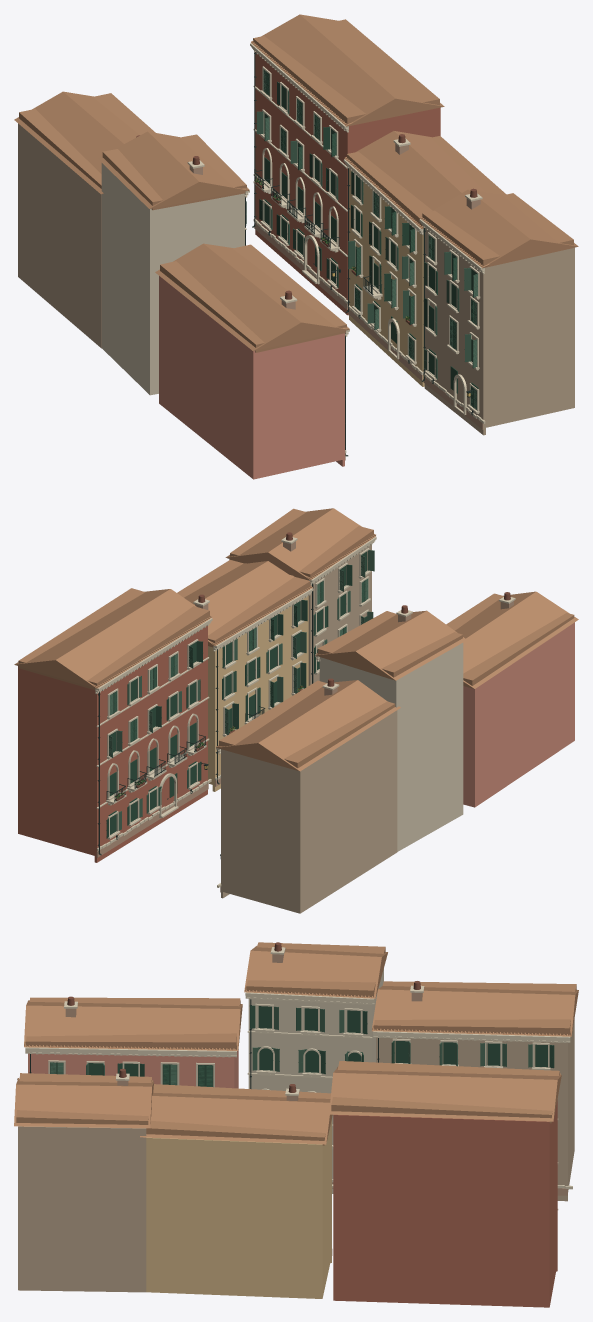
Rendered from canal-01.glb.
3 views of the same model, one above another, from view 1: azimuth 30°, elevation 25°; view 2: azimuth 150°, elevation 25°; view 3: azimuth 270°, elevation 25° (orthographic). The views are drawn at different scales.
Parts seen in each view (by area): view 1: Main elevations / kit:roof, Main elevations / kit:walls:1, Main elevations / kit:walls:5, Distant elevations / kit:roof, Distant elevations / kit:walls:5, Main elevations / kit:walls:3, Main elevations / kit:stone, Distant elevations / kit:walls:4, Main elevations / kit:green, Main elevations / kit:walls:2, Main elevations / kit:walls:4, Distant elevations / kit:greenDark (+7 smaller); view 2: Main elevations / kit:roof, Main elevations / kit:walls:5, Distant elevations / kit:roof, Main elevations / kit:walls:4, Main elevations / kit:walls:3, Main elevations / kit:walls:1, Distant elevations / kit:walls:4, Main elevations / kit:stone, Distant elevations / kit:greenDark, Main elevations / kit:walls:2, Main elevations / kit:greenDark, Main elevations / kit:green (+6 smaller); view 3: Main elevations / kit:walls:4, Main elevations / kit:roof, Main elevations / kit:walls:2, Main elevations / kit:walls:5, Distant elevations / kit:roof, Main elevations / kit:stone, Main elevations / kit:walls:3, Distant elevations / kit:greenDark, Distant elevations / kit:walls:3, Distant elevations / kit:walls:5, Main elevations / kit:walls:1, Main elevations / kit:green (+3 smaller).
Boxes of the visible parts, <box> form: Main elevations / kit:roof: <box>14,14,578,351</box>; Main elevations / kit:walls:1: <box>159,276,344,479</box>; Main elevations / kit:walls:5: <box>18,123,574,435</box>; Distant elevations / kit:roof: <box>19,19,573,352</box>; Distant elevations / kit:walls:5: <box>425,228,565,427</box>; Main elevations / kit:walls:3: <box>101,163,241,395</box>; Main elevations / kit:stone: <box>187,43,485,453</box>; Distant elevations / kit:walls:4: <box>255,52,350,299</box>; Main elevations / kit:green: <box>256,69,477,409</box>; Main elevations / kit:walls:2: <box>349,168,424,386</box>; Main elevations / kit:walls:4: <box>255,74,440,315</box>; Distant elevations / kit:greenDark: <box>264,85,478,393</box>; Main elevations / kit:roof: <box>14,508,578,771</box>; Main elevations / kit:walls:5: <box>221,547,397,913</box>; Distant elevations / kit:roof: <box>18,508,574,768</box>; Main elevations / kit:walls:4: <box>18,661,207,862</box>; Main elevations / kit:walls:3: <box>319,643,463,851</box>; Main elevations / kit:walls:1: <box>466,622,574,807</box>; Distant elevations / kit:walls:4: <box>86,626,207,856</box>; Main elevations / kit:stone: <box>95,537,515,887</box>; Distant elevations / kit:greenDark: <box>108,551,367,834</box>; Main elevations / kit:walls:2: <box>208,595,308,791</box>; Main elevations / kit:greenDark: <box>106,564,364,838</box>; Main elevations / kit:green: <box>109,550,374,830</box>; Main elevations / kit:walls:4: <box>333,1105,557,1307</box>; Main elevations / kit:roof: <box>14,946,578,1144</box>; Main elevations / kit:walls:2: <box>146,1119,331,1298</box>; Main elevations / kit:walls:5: <box>18,1021,574,1292</box>; Distant elevations / kit:roof: <box>16,942,576,1145</box>; Main elevations / kit:stone: <box>25,947,572,1209</box>; Main elevations / kit:walls:3: <box>255,968,383,1193</box>; Distant elevations / kit:greenDark: <box>56,1006,547,1086</box>; Distant elevations / kit:walls:3: <box>248,998,361,1178</box>; Distant elevations / kit:walls:5: <box>394,1019,574,1184</box>; Main elevations / kit:walls:1: <box>89,1050,238,1088</box>; Main elevations / kit:green: <box>50,1006,532,1084</box>.
Size of the model in its own units: 31.81 by 19.35 by 43.21.
